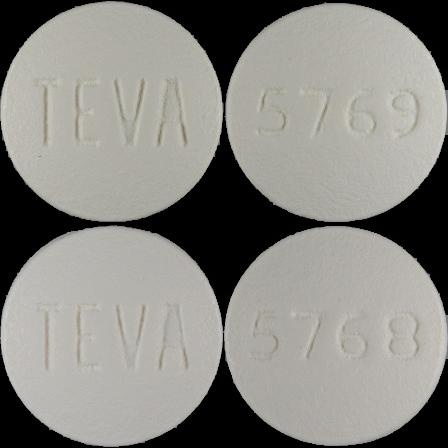54868-6364: (0, 0, 224, 224)
